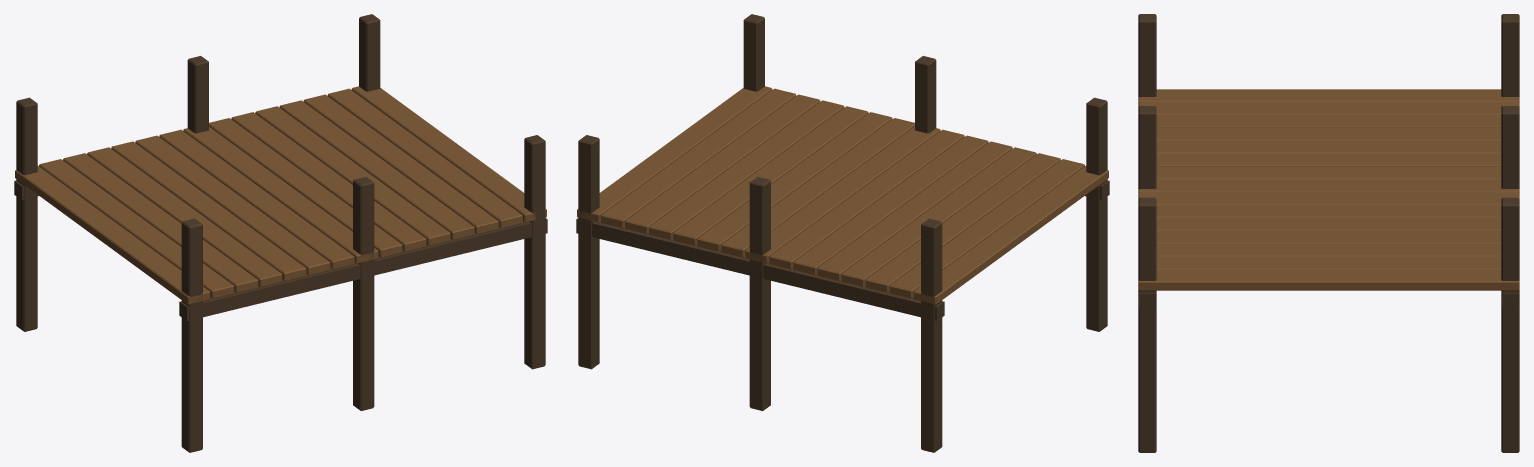
Rendered from wooden_dock.glb.
The picture shows the model from 3 angles, left to right: view 1: azimuth 30°, elevation 25°; view 2: azimuth 150°, elevation 25°; view 3: azimuth 270°, elevation 25°; orthographic projection. The views are drawn at different scales.
Parts seen in each view (by area): view 1: wooden_dock; view 2: wooden_dock; view 3: wooden_dock.
Part boxes in pixels (x1=…): wooden_dock: x1=14, y1=14, x2=547, y2=452; wooden_dock: x1=576, y1=14, x2=1109, y2=452; wooden_dock: x1=1138, y1=14, x2=1519, y2=452.
Size of the model in its own units: 6 by 3.6 by 5.
